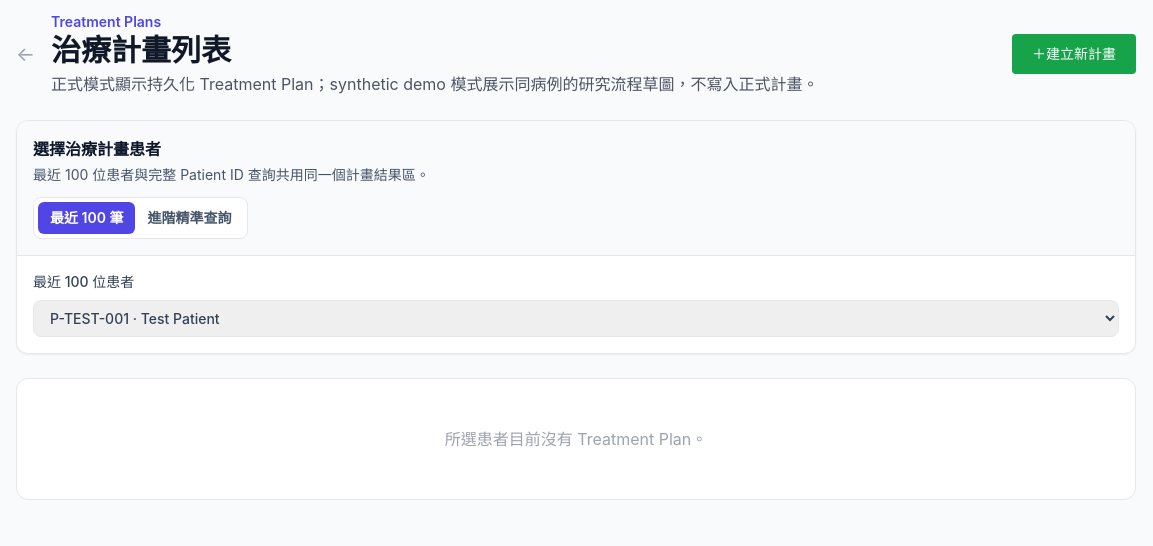
TreatmentPlanListPage dual-mode workflow › shows the advanced lookup error returned by the API
expect the dropdown labelled "最近 100 位患者" is shown: met, box [33,300,1119,337]
Click the button "進階精準查詢" at (190, 218), box [136,202,244,234]
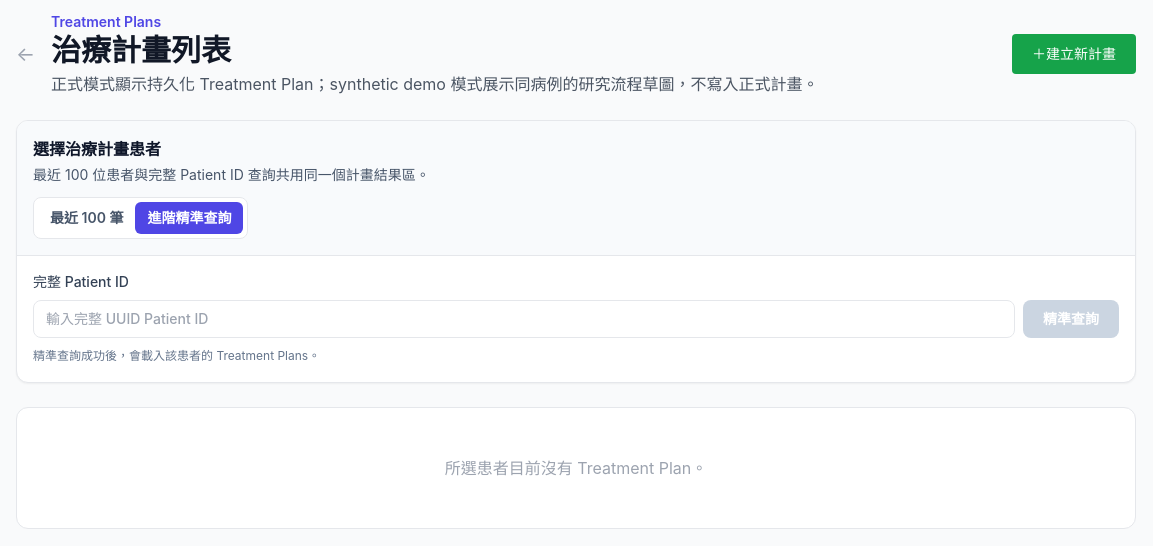
Type "P-MISSING" into the field with placeholder "輸入完整 UUID Patient ID" at (524, 319), box [33,300,1015,338]
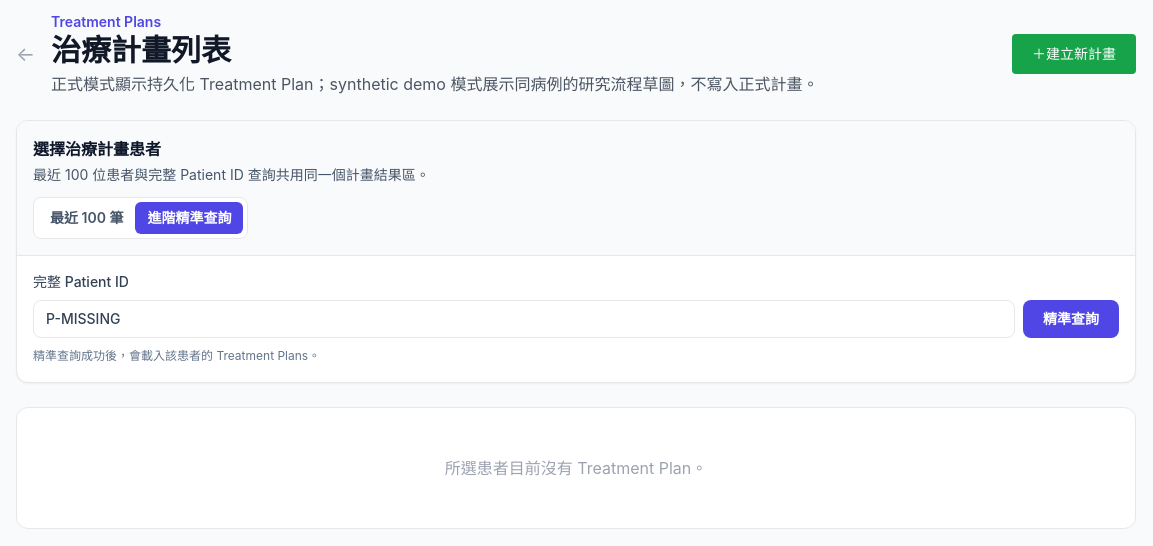
Click the button "精準查詢" at (1071, 319), box [1023,300,1119,338]
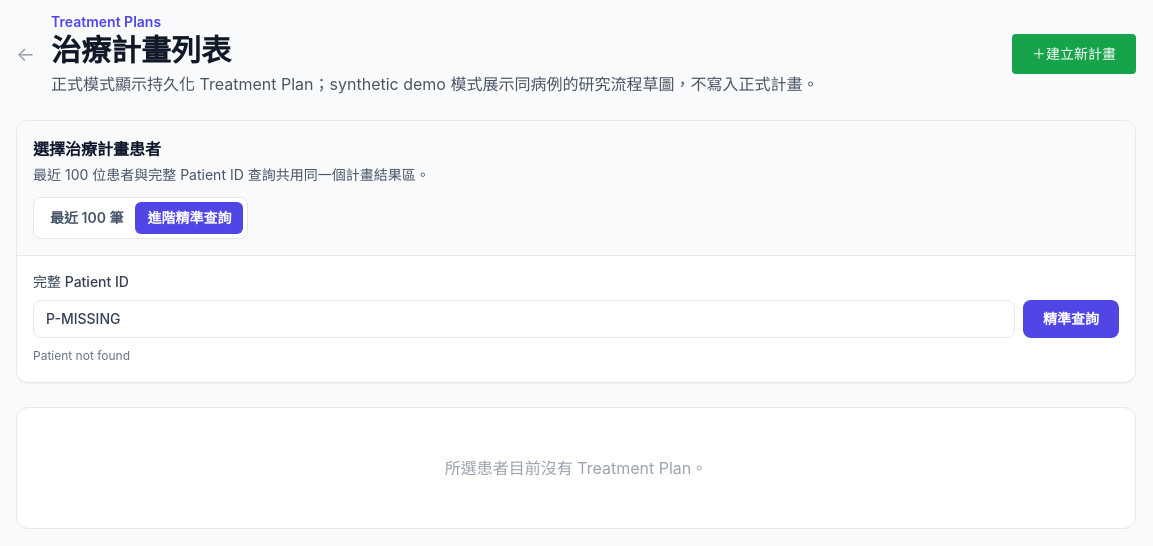
expect the text "Patient not found" is shown: met, box [33,348,130,363]
